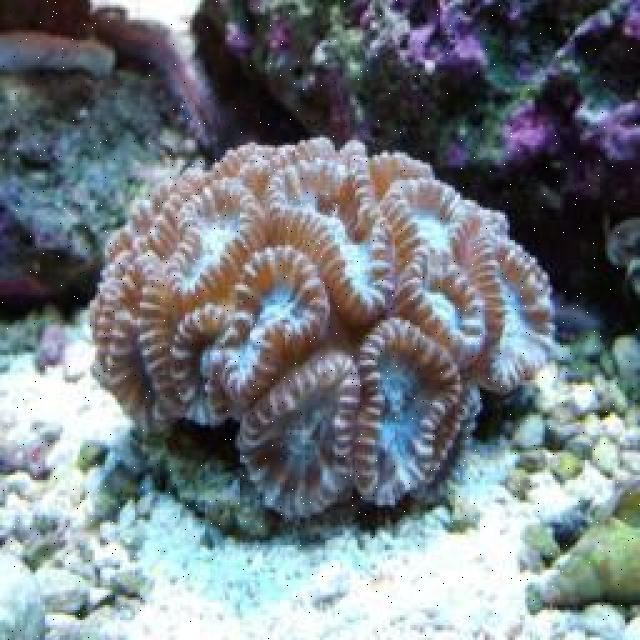reefs: (84, 136, 557, 518)
sea-floor: (190, 4, 638, 295), (0, 2, 212, 297)
